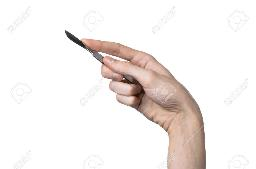scalpel: (64, 30, 146, 94)
